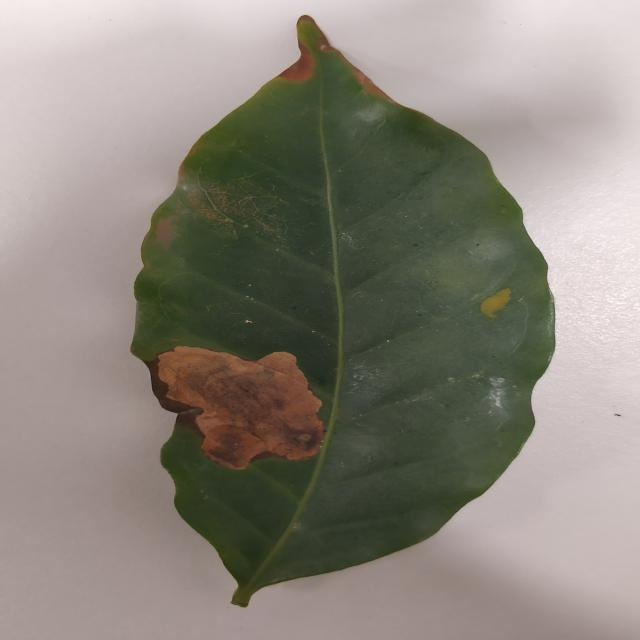Plaga-Minador: (129, 15, 557, 610)
